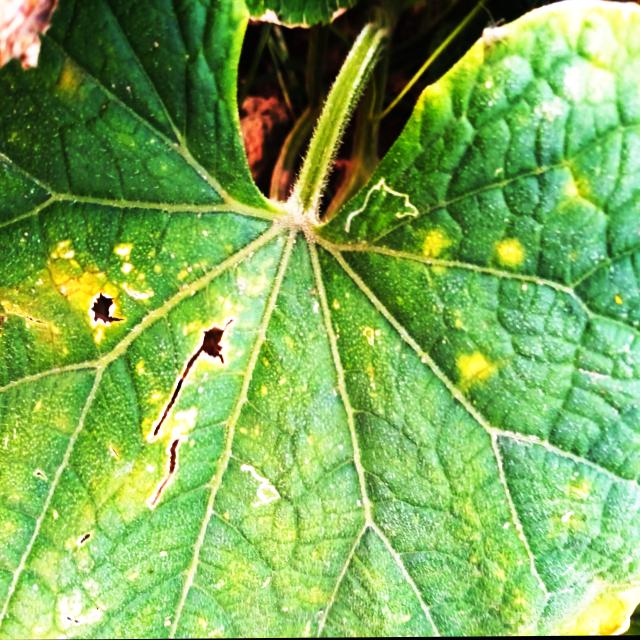Downy-Mildew: (0, 0, 640, 638)
